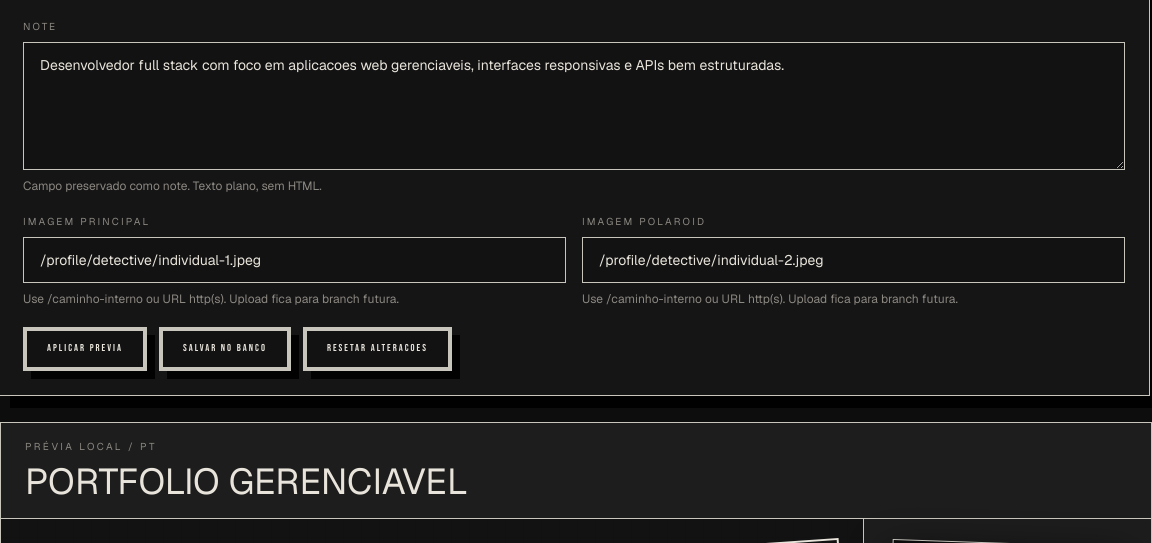
Test case: AdminDossierPreviewPage › saves the current locale with a normalized payload
(page scrolled)
Click the button "Salvar no banco": point(225, 349) top-left (159, 327), bottom-right (291, 371)
(page scrolled)
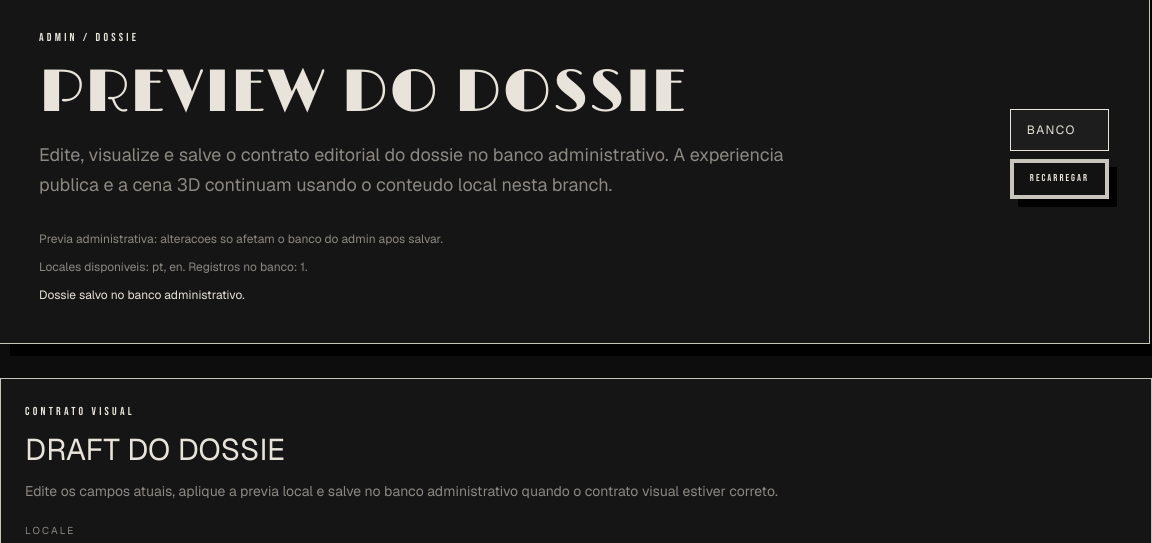
expect the text "Dossie salvo no banco administrativo." is shown: met, box top-left (39, 287), bottom-right (245, 303)
